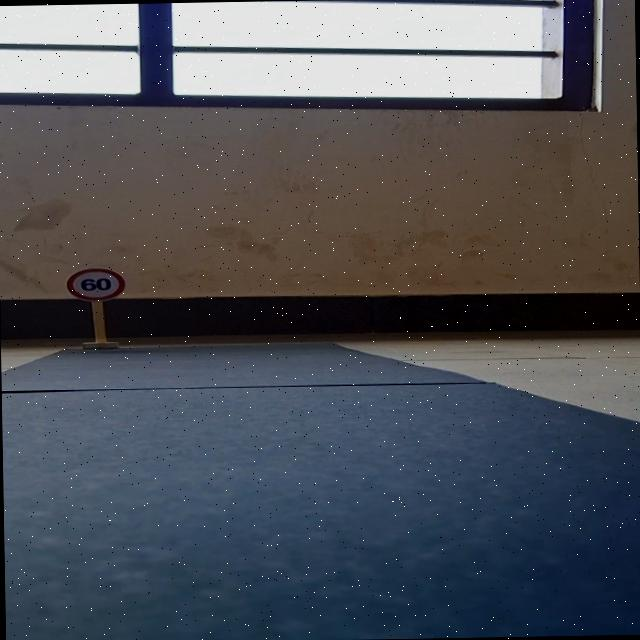Speed60: (65, 266, 127, 302)
